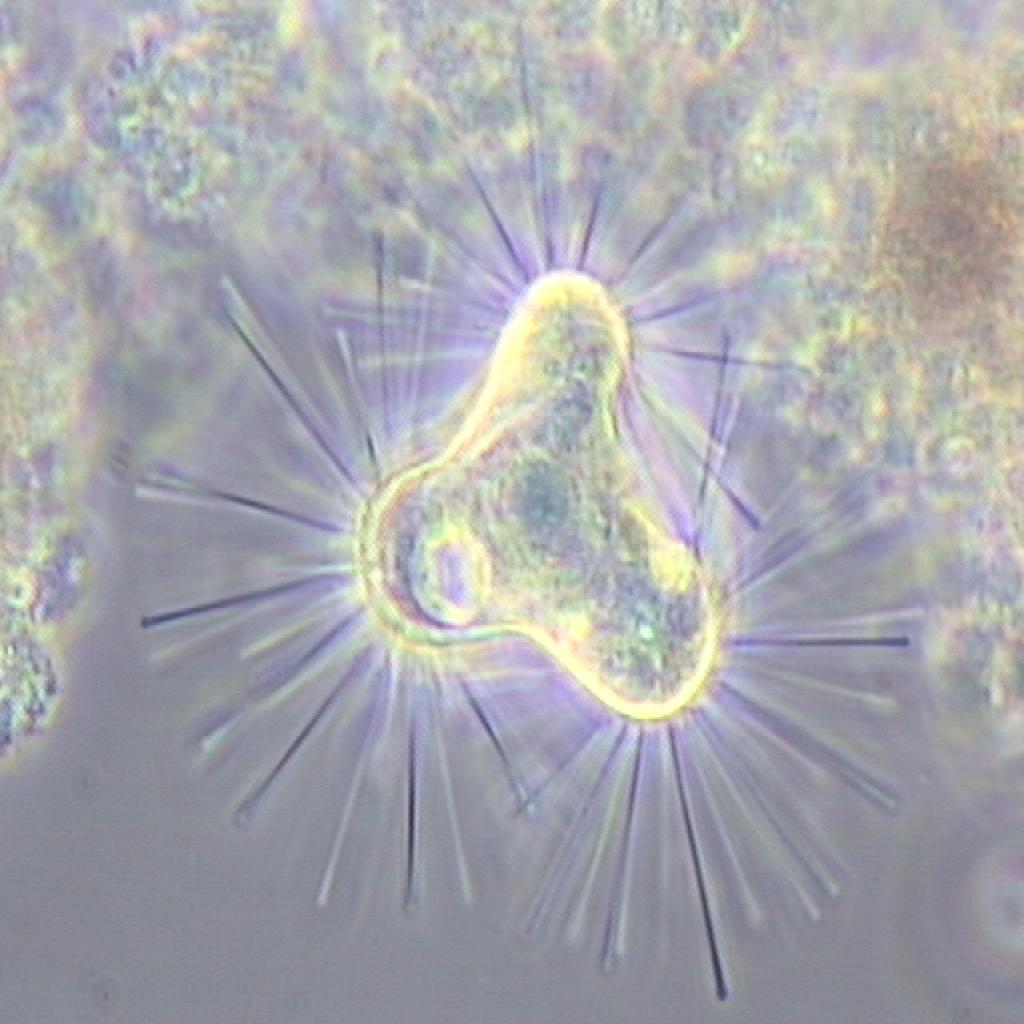Suctorida: (138, 167, 896, 959)
